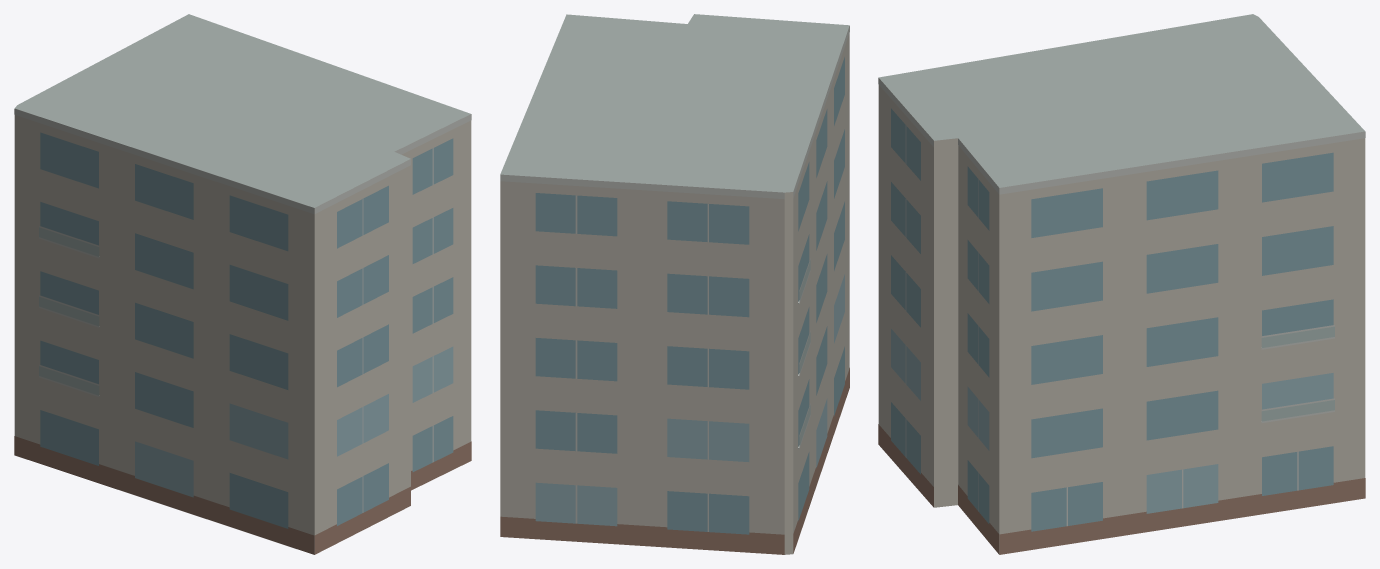
Rendered from survey-upis-32974137.glb.
3 renders of one model, left to right at view 1: azimuth 30°, elevation 25°; view 2: azimuth 150°, elevation 25°; view 3: azimuth 270°, elevation 25°, orthographic. The views are drawn at different scales.
Visible parts, largest first — view 1: survey-upis-32974137.tmp; view 2: survey-upis-32974137.tmp; view 3: survey-upis-32974137.tmp.
Part boxes in pixels (<box>): survey-upis-32974137.tmp: <box>14,14,471,554</box>; survey-upis-32974137.tmp: <box>500,14,849,554</box>; survey-upis-32974137.tmp: <box>878,14,1365,554</box>.
Size of the model in its own units: 13.58 by 13.35 by 16.07.
